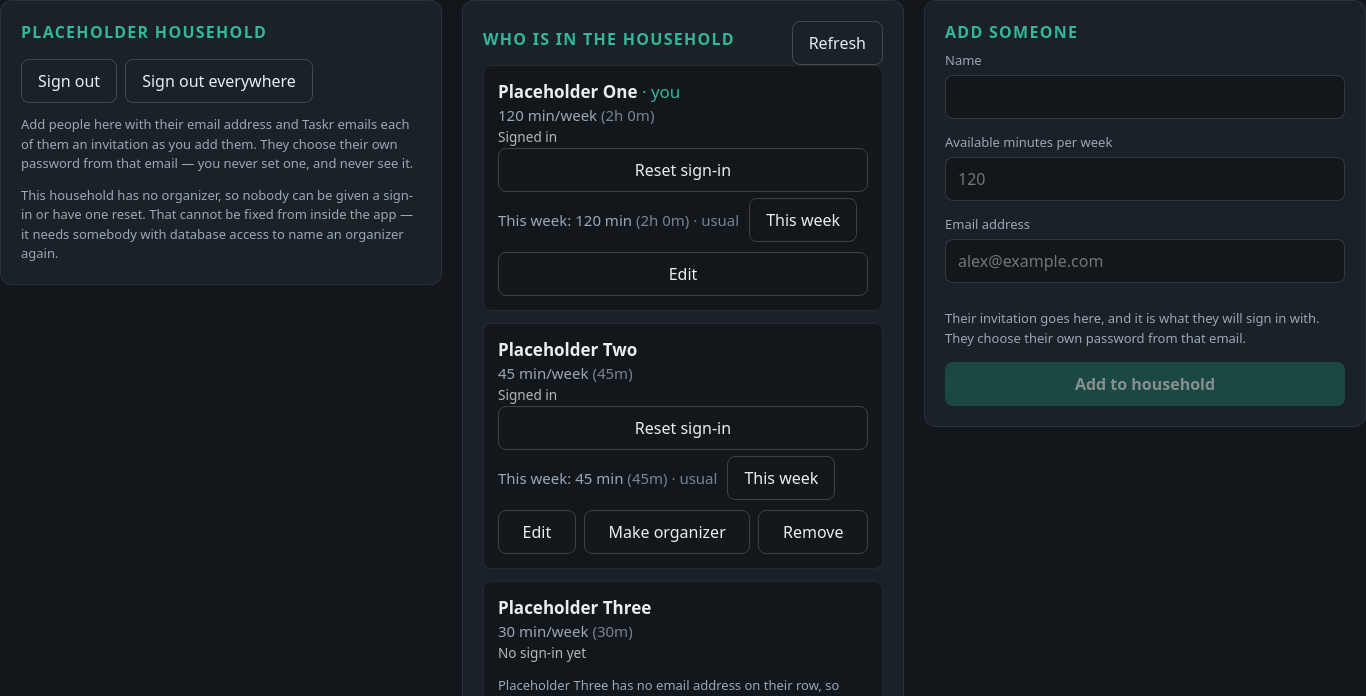
Test: handing the organizer role over from the roster (#179) › backs out on Not now without handing over, and the control is still there to take
The image size is (1366, 696).
Click the button "Make organizer". click: coordinates (667, 532)
box: [584,510,750,554]
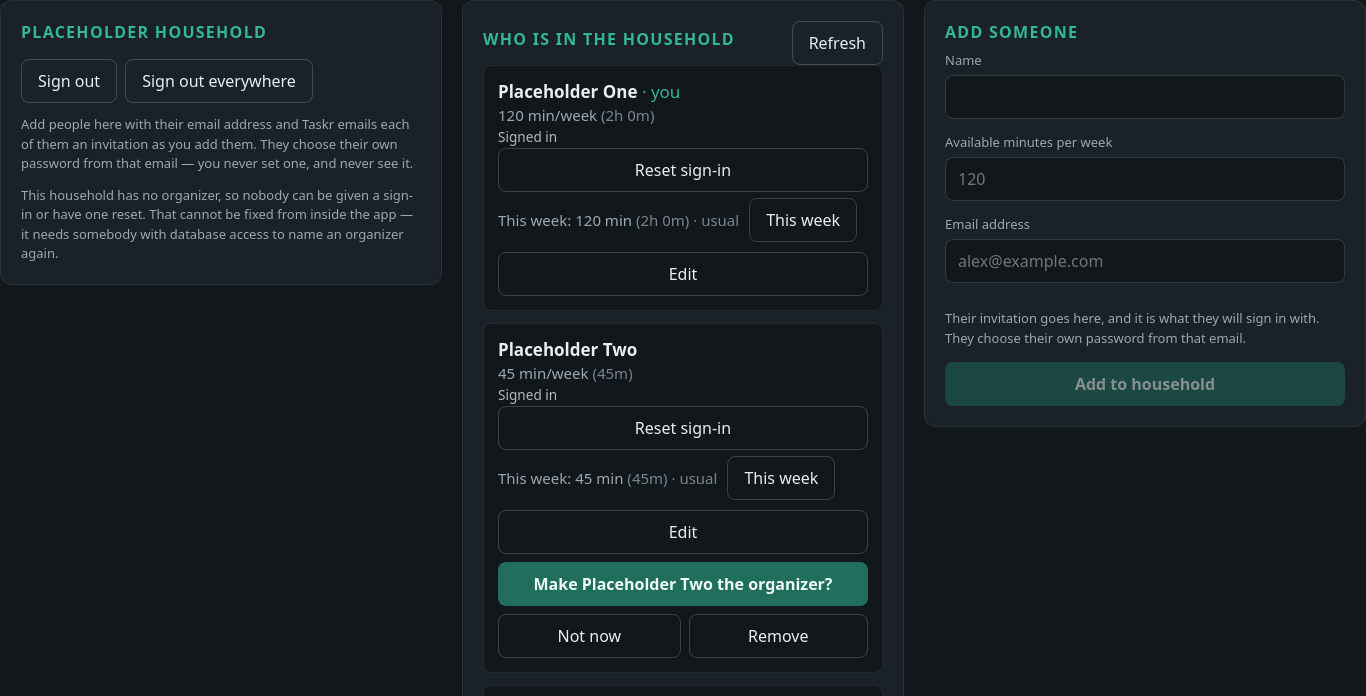
Click the button "Not now". click: coordinates (589, 636)
box: [498,614,681,658]
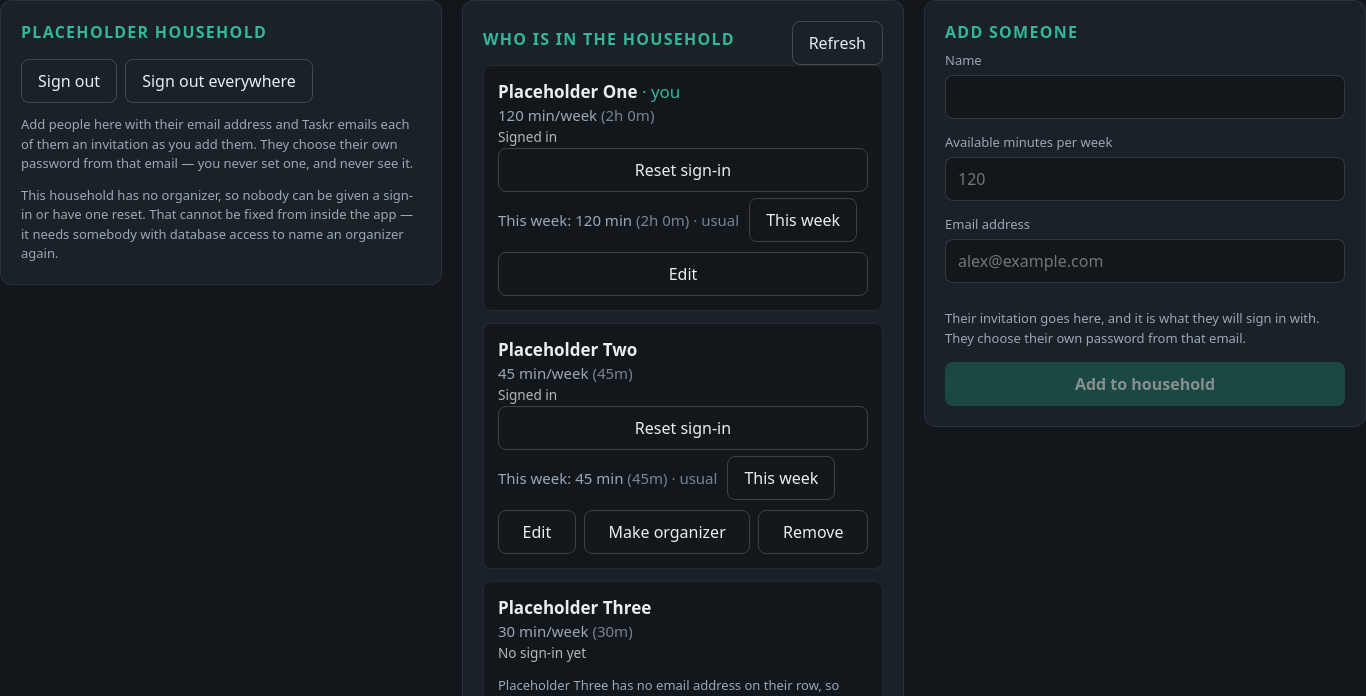
expect the button "Make organizer" is shown: met, box [584,510,750,554]
